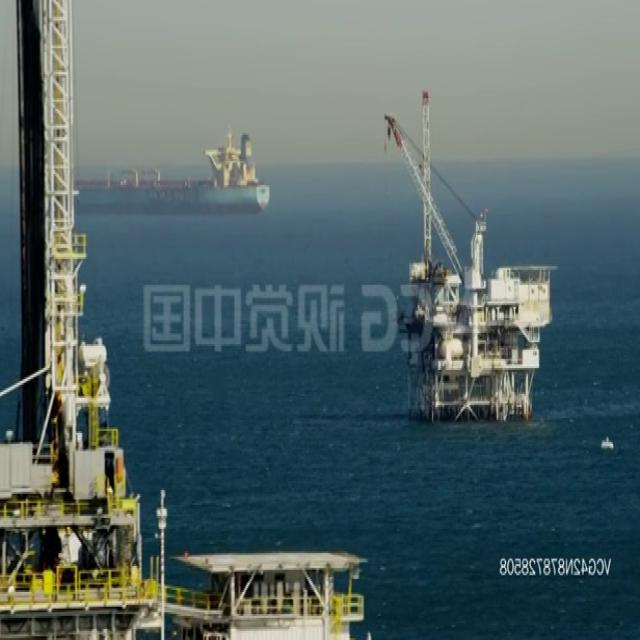cargoship: (74, 127, 273, 215)
